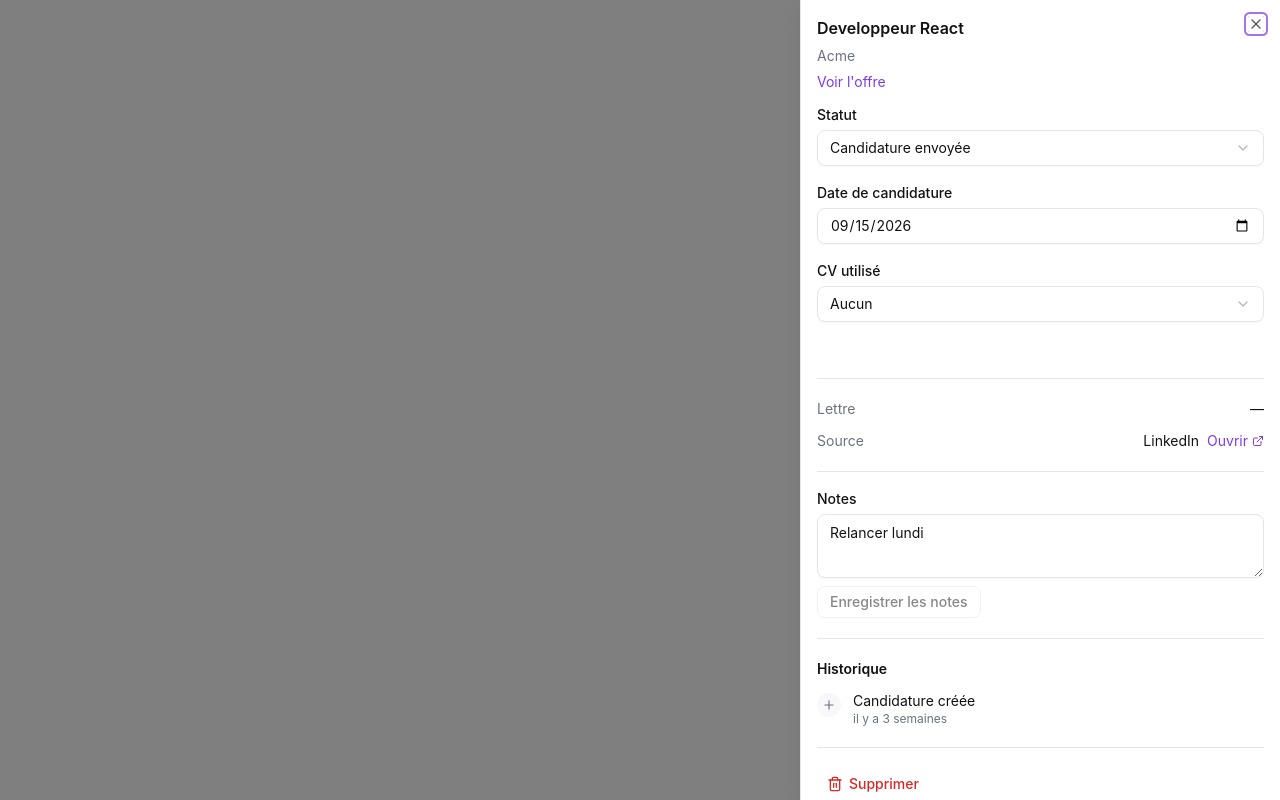
ApplicationSheet › enregistre immediatement un changement de statut et annonce « Enregistré »
Expected: the heading "Developpeur React" is shown, [817,18,964,38]
What coordinates should you click on to do the following:
click the dropdown named "Statut"
I would click on:
 (900, 148)
Its box is [817,130,1264,166].
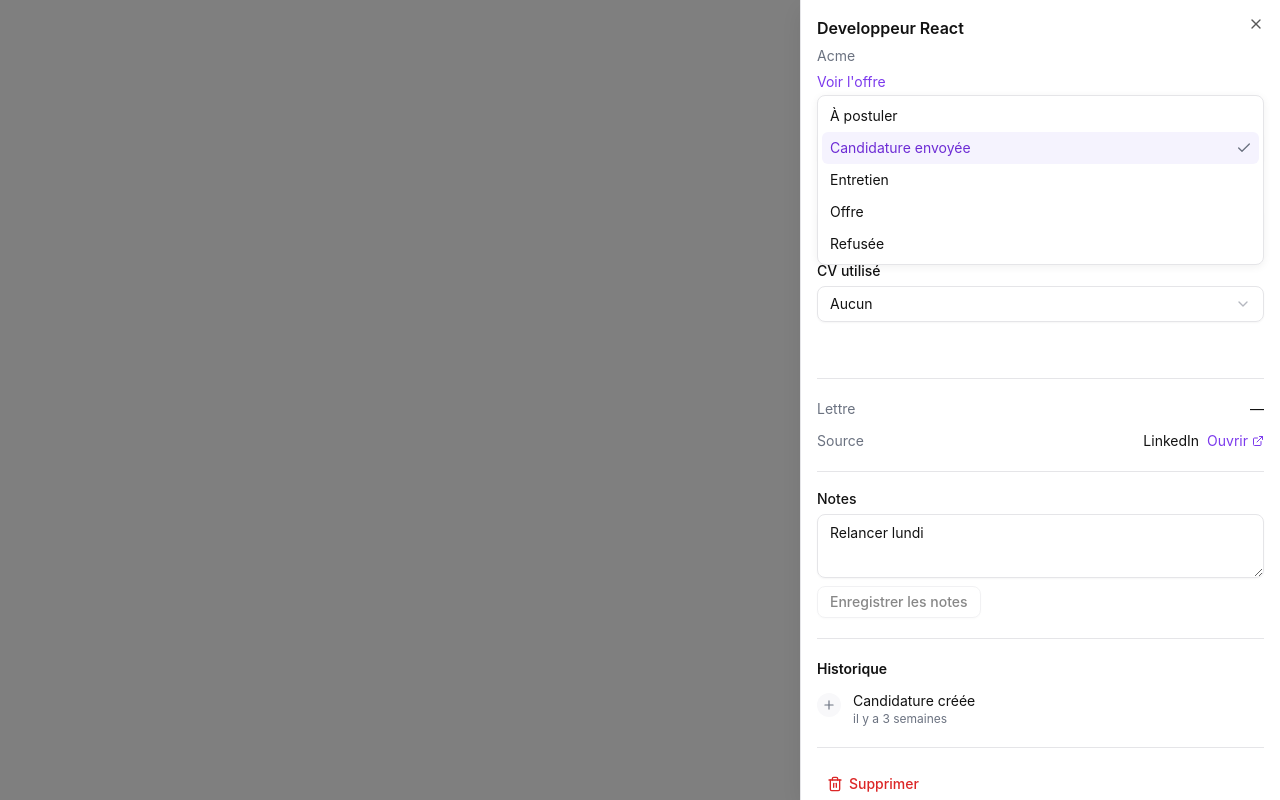
What coordinates should you click on to do the following:
click the option "Entretien"
I would click on:
 (859, 180)
Its box is [830,171,889,188].
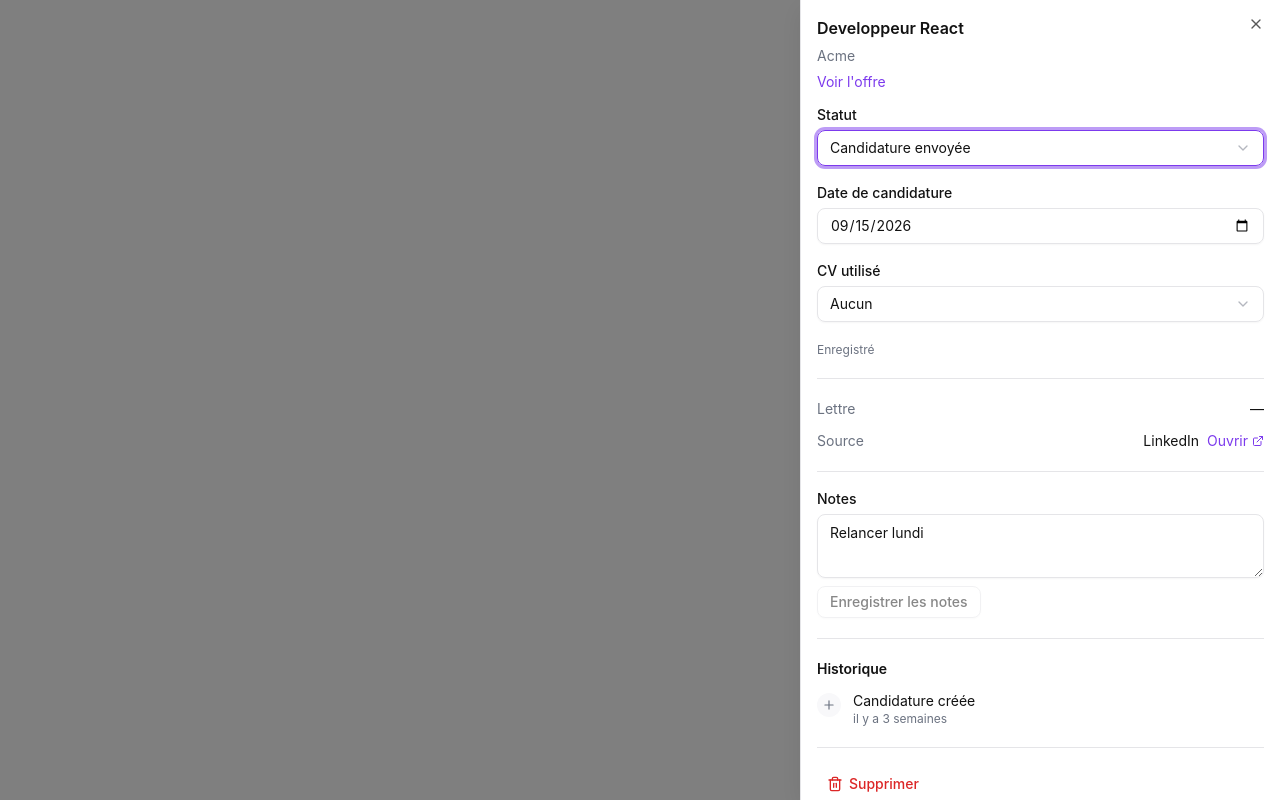
Expected: the text "Enregistré" is shown, [817,342,874,357]
